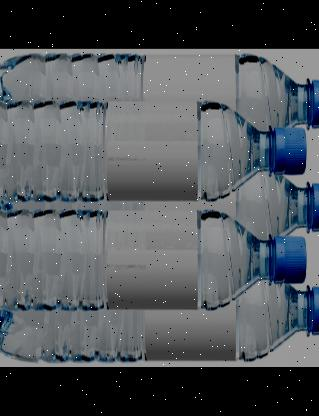Plastic Bottle: (0, 210, 305, 313), (0, 101, 305, 202), (0, 282, 319, 364), (0, 53, 319, 131)
